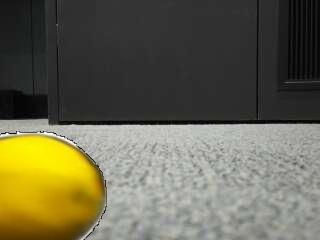lemon: (0, 135, 105, 240)
